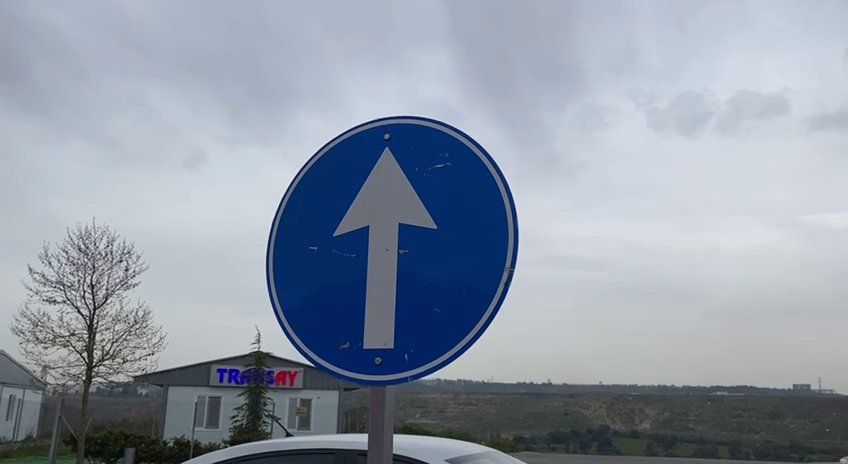forward: (260, 112, 528, 392)
